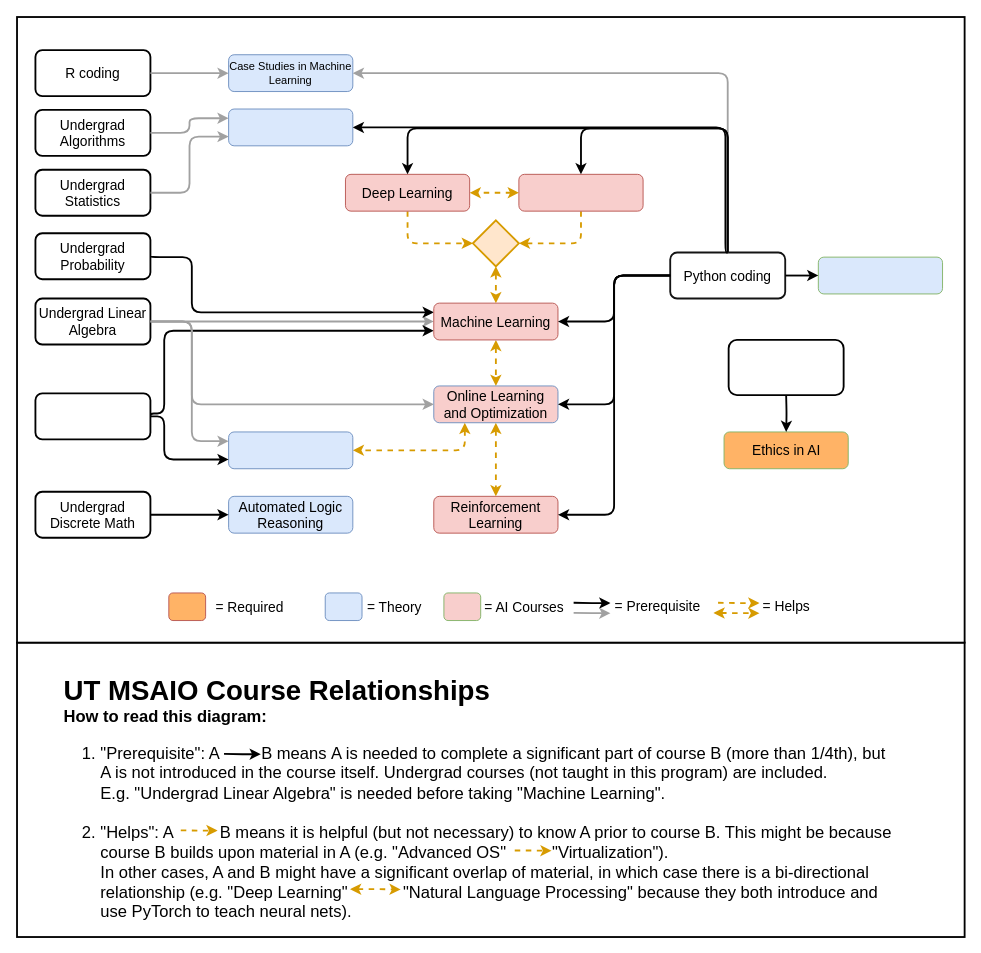
Image size: 981x953. Some labels were removed from this diagram. Each missing label, with the box of its shape:
AI in Healthcare: (817, 256, 943, 294)
Basic Philosophical Principles: (727, 339, 844, 396)
NLP: (518, 173, 643, 211)
Optimization: (228, 431, 353, 469)
OR: (472, 219, 519, 267)
Planning, Search & Reasoning Under Uncertainty: (228, 108, 353, 146)
Undergrad Calculus: (34, 392, 151, 440)
